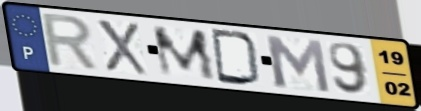9: (326, 41, 372, 96)
D: (208, 26, 264, 88)
M: (261, 33, 334, 95), (149, 25, 220, 82)
R: (40, 11, 102, 74)
X: (94, 17, 151, 77)
